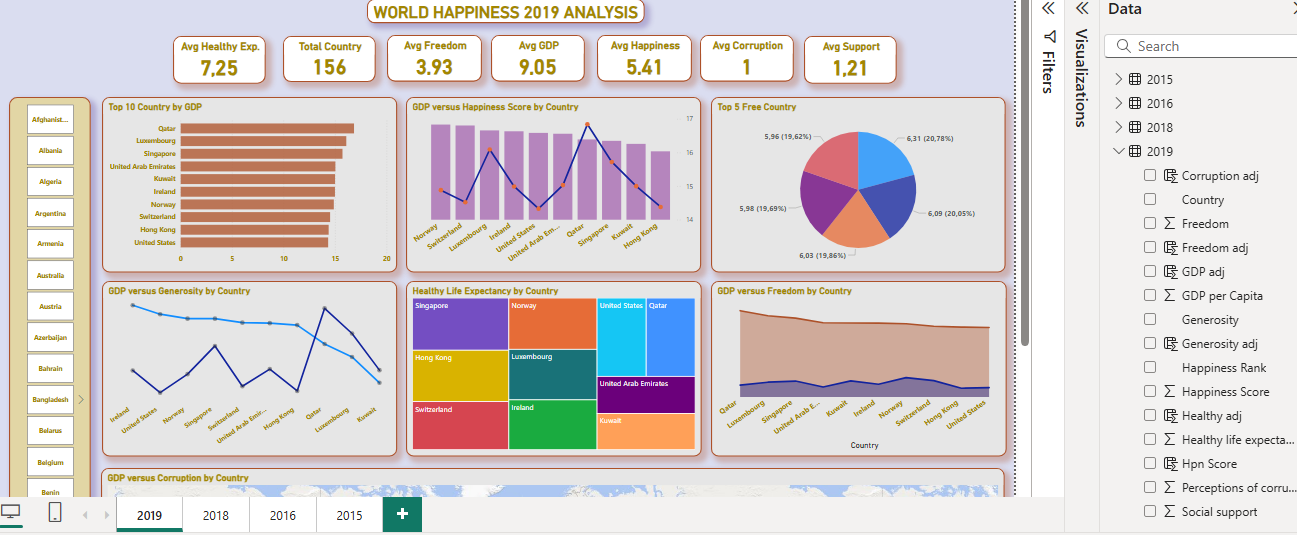

This screenshot's page, from the dashboard's own definition file:
{"tool":"powerbi","page":{"name":"2019","canvas":[1850,1280],"ordinal":0},"visuals":[{"type":"textbox","title":"WORLD HAPPINESS 2019 ANALYSIS","box":[671.2,0,505.8,44.2],"z":0},{"type":"card","title":"Avg GDP","fields":{"Values":["Avg(2019.GDP adj)"]},"box":[897.6,65.9,170.7,85.4],"z":1000},{"type":"card","title":"Total Country ","fields":{"Values":["CountNonNull(2019.Country)"]},"box":[517.8,66.7,168.9,84.4],"z":2000},{"type":"card","title":"Avg Freedom","fields":{"Values":["Avg(2019.Freedom adj)"]},"box":[707.3,65.9,173.2,85.4],"z":3000},{"type":"card","title":"Avg Happiness","fields":{"Values":["Avg(2019.Hpn Score)"]},"box":[1090.2,65.9,173.2,85.4],"z":4000},{"type":"card","title":"Avg Corruption","fields":{"Values":["Avg(2019.Corruption adj)"]},"box":[1278,65.9,170.7,85.4],"z":5000},{"type":"slicer","fields":{"Values":["2019.Country"]},"box":[17.8,177.8,148.9,1102.2],"z":6000},{"type":"barChart","title":"Top 10 Country by GDP ","fields":{"Category":["2019.Country"],"Y":["Sum(2019.GDP adj)"]},"box":[186.9,178.7,537.7,319.7],"z":7000},{"type":"lineClusteredColumnComboChart","title":"GDP versus Happiness Score by Country","fields":{"Category":["2019.Country"],"Y":["Avg(2019.Hpn Score)"],"Y2":["Sum(2019.GDP adj)"]},"box":[742.6,178.7,537.7,319.7],"z":8000},{"type":"lineChart","title":"GDP versus Generosity by Country","fields":{"Category":["2019.Country"],"Y":["Avg(2019.Generosity adj)"],"Y2":["Sum(2019.GDP adj)"]},"box":[186.9,514.8,537.7,319.7],"z":9000},{"type":"treemap","title":"Healthy Life Expectancy by Country","fields":{"Group":["2019.Country"],"Values":["Sum(2019.Healthy adj)"]},"box":[741.5,514.6,539,319.5],"z":10000},{"type":"pieChart","title":"Top 5 Free Country","fields":{"Category":["2019.Country"],"Y":["Sum(2019.Freedom adj)"]},"box":[1297.6,178,536.6,319.5],"z":11000},{"type":"areaChart","title":"GDP versus Freedom by Country","fields":{"Category":["2019.Country"],"Y":["Sum(2019.GDP adj)","Sum(2018.Freedom adj)"]},"box":[1297.6,514.6,539,319.5],"z":12000},{"type":"card","title":"Avg Support","fields":{"Values":["Avg(2019.Social Support adj)"]},"box":[1466.7,66.7,168.9,86.7],"z":13000},{"type":"card","title":"Avg Healthy Exp.","fields":{"Values":["Avg(2019.Healthy adj)"]},"box":[317.8,66.7,168.9,86.7],"z":14000},{"type":"map","title":"GDP versus Corruption by Country","fields":{"Category":["2019.Country"],"Size":["Avg(2019.GDP adj)"],"Series":["2019.Corruption adj"]},"box":[186.7,855.6,1646.7,397.8],"z":15000}]}

Visuals, with their boxes on the page's 1850x1280 design canvas (x1, y1, x2, y2). These are canvas units, not pixel positions in the 1297x535 screenshot, which may show the page scaled, cropped or inside an application window:
"WORLD HAPPINESS 2019 ANALYSIS" textbox: x1=671, y1=0, x2=1177, y2=44
"Avg GDP" card: x1=898, y1=66, x2=1068, y2=151
"Total Country " card: x1=518, y1=67, x2=687, y2=151
"Avg Freedom" card: x1=707, y1=66, x2=880, y2=151
"Avg Happiness" card: x1=1090, y1=66, x2=1263, y2=151
"Avg Corruption" card: x1=1278, y1=66, x2=1449, y2=151
slicer - 2019.Country: x1=18, y1=178, x2=167, y2=1280
"Top 10 Country by GDP " barChart: x1=187, y1=179, x2=725, y2=498
"GDP versus Happiness Score by Country" lineClusteredColumnComboChart: x1=743, y1=179, x2=1280, y2=498
"GDP versus Generosity by Country" lineChart: x1=187, y1=515, x2=725, y2=834
"Healthy Life Expectancy by Country" treemap: x1=742, y1=515, x2=1280, y2=834
"Top 5 Free Country" pieChart: x1=1298, y1=178, x2=1834, y2=498
"GDP versus Freedom by Country" areaChart: x1=1298, y1=515, x2=1837, y2=834
"Avg Support" card: x1=1467, y1=67, x2=1636, y2=153
"Avg Healthy Exp." card: x1=318, y1=67, x2=487, y2=153
"GDP versus Corruption by Country" map: x1=187, y1=856, x2=1833, y2=1253
